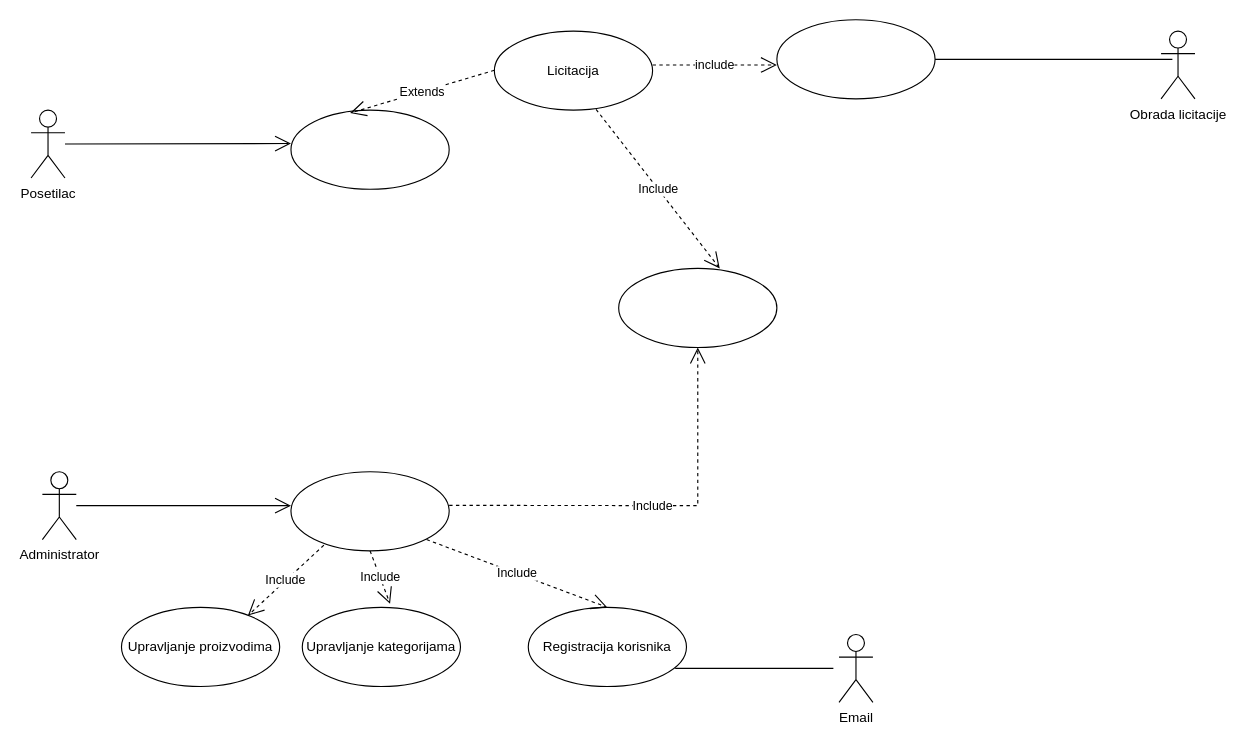
The diagram is 1245 pixels wide and 746 high, and some of its shapes have lost their labels. The shapes that lost their labels are listed below. From the top down, each one's centre as x and y in pixels, then its label:
point (855, 59): Kraj licitacije
point (369, 149): Pregled proizvoda
point (697, 307): Login
point (369, 511): Administracija
